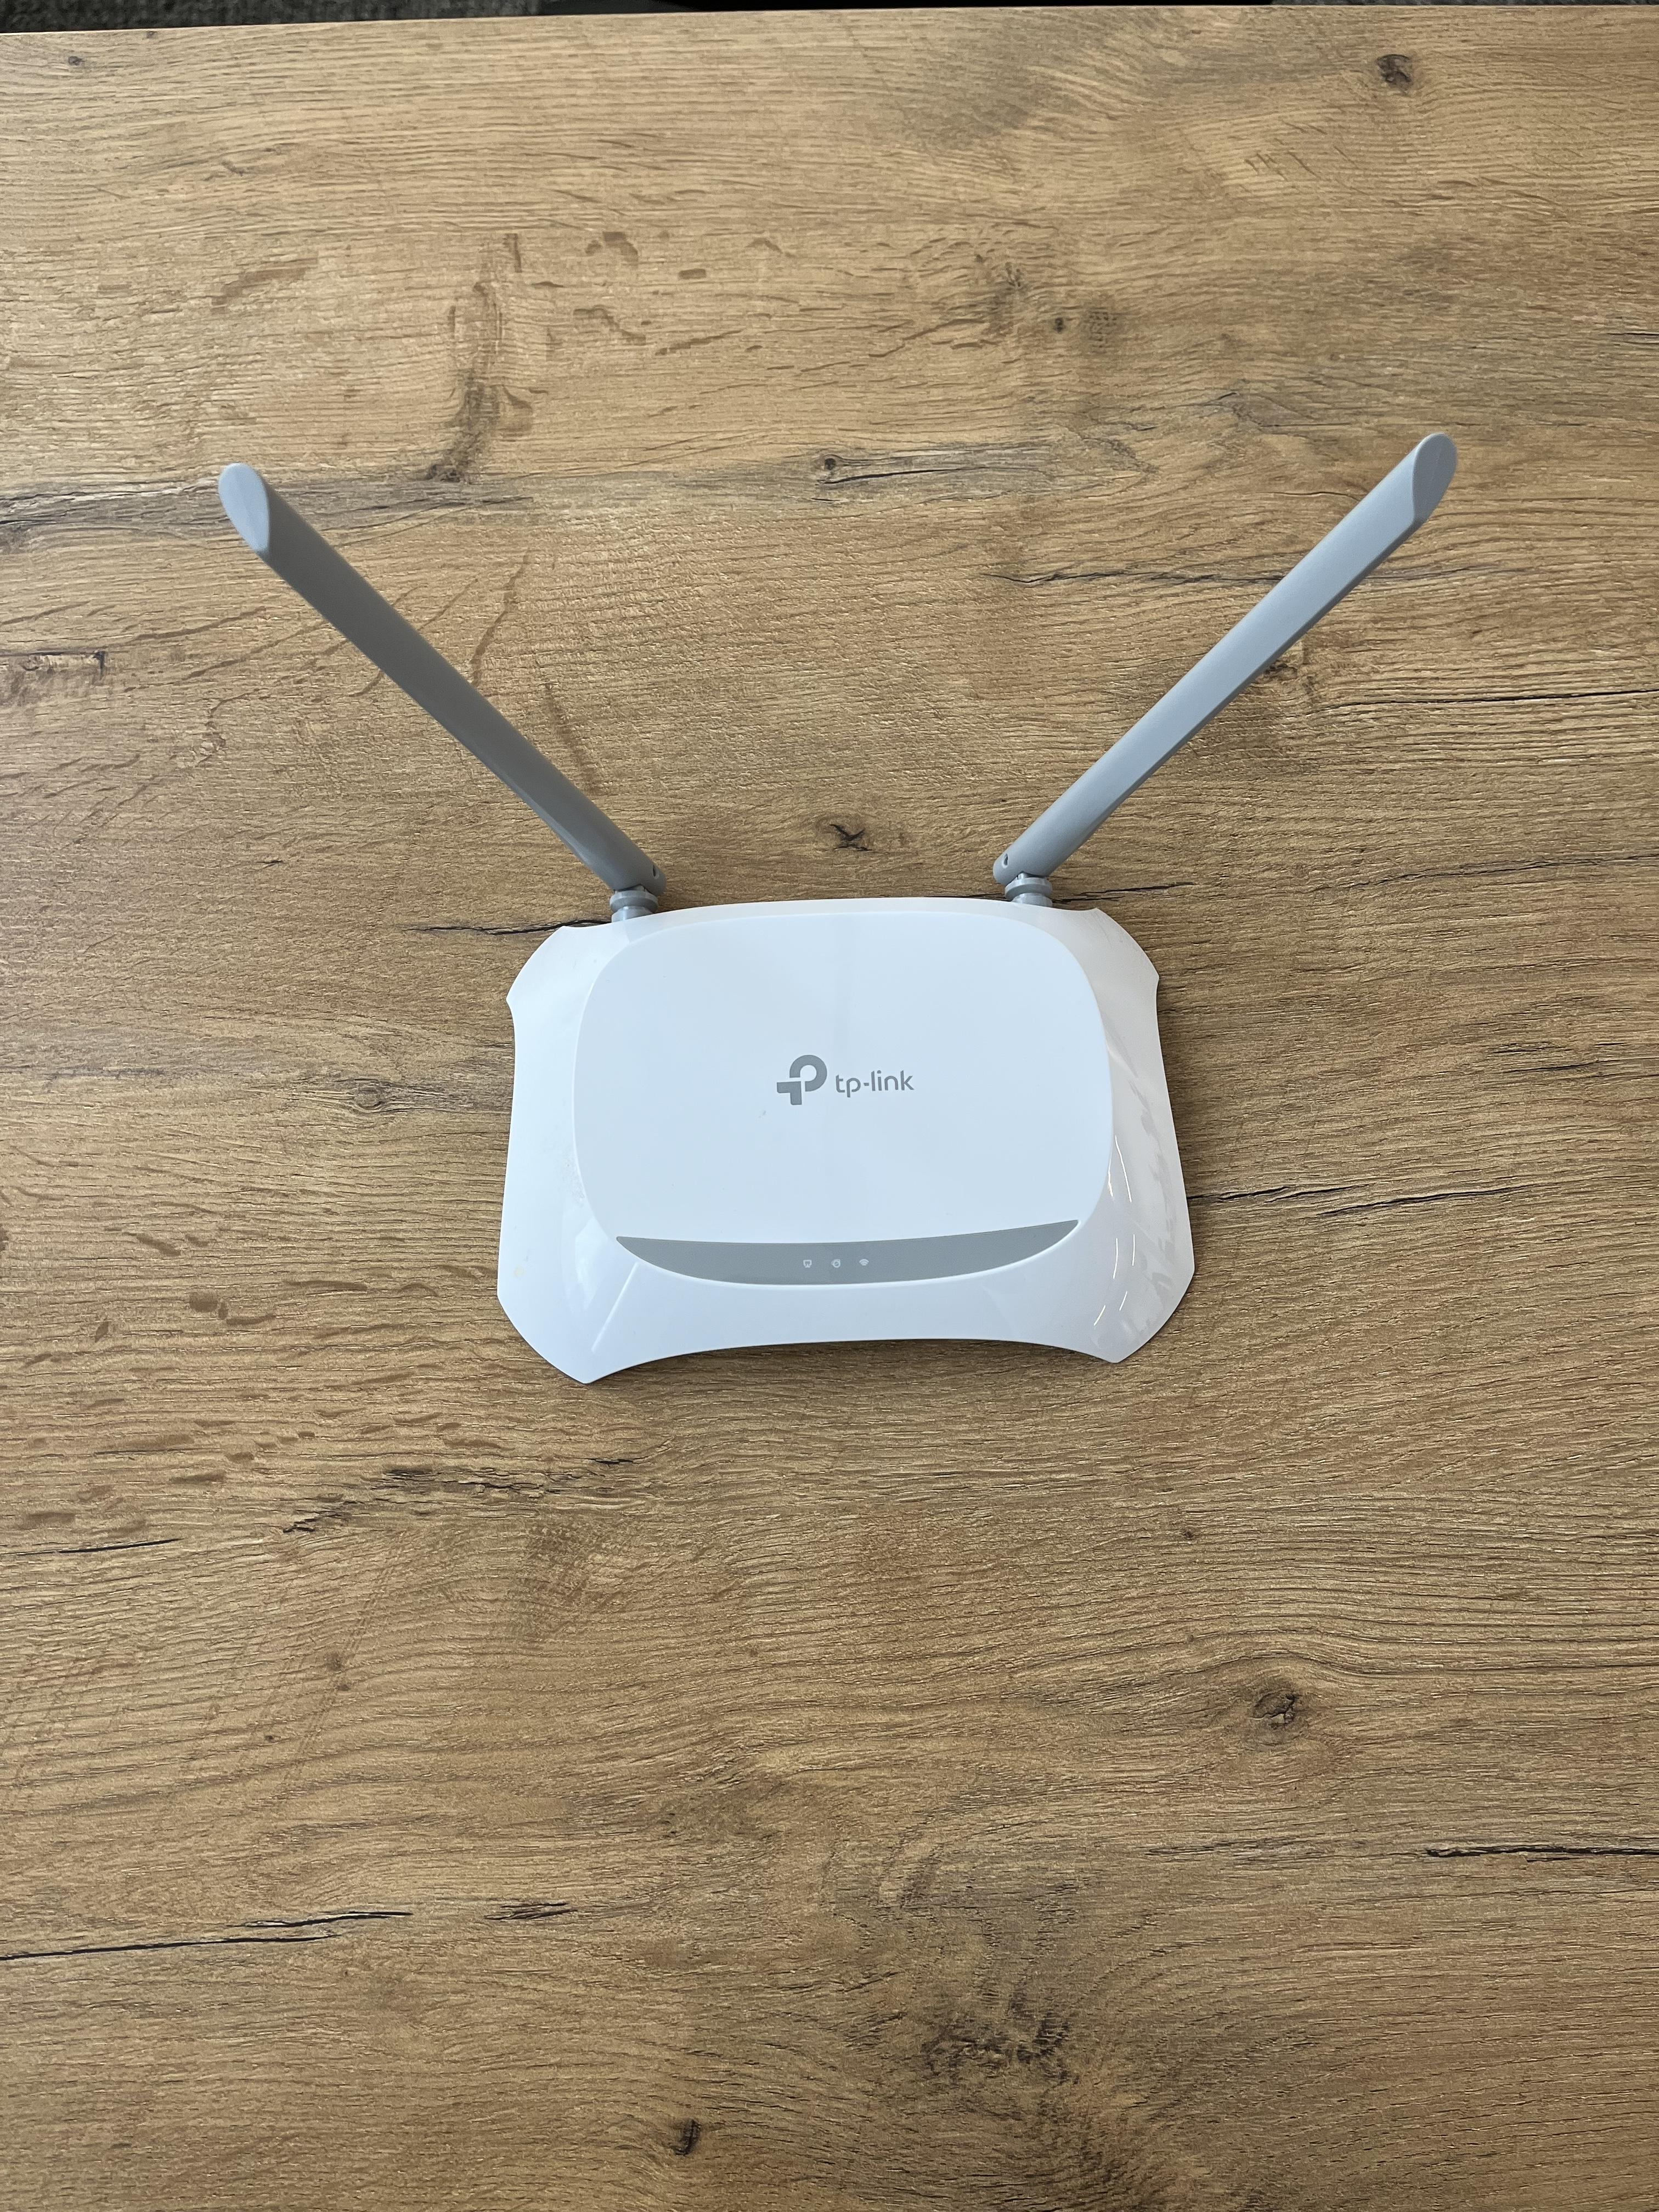router: (474, 890, 1206, 1395)
